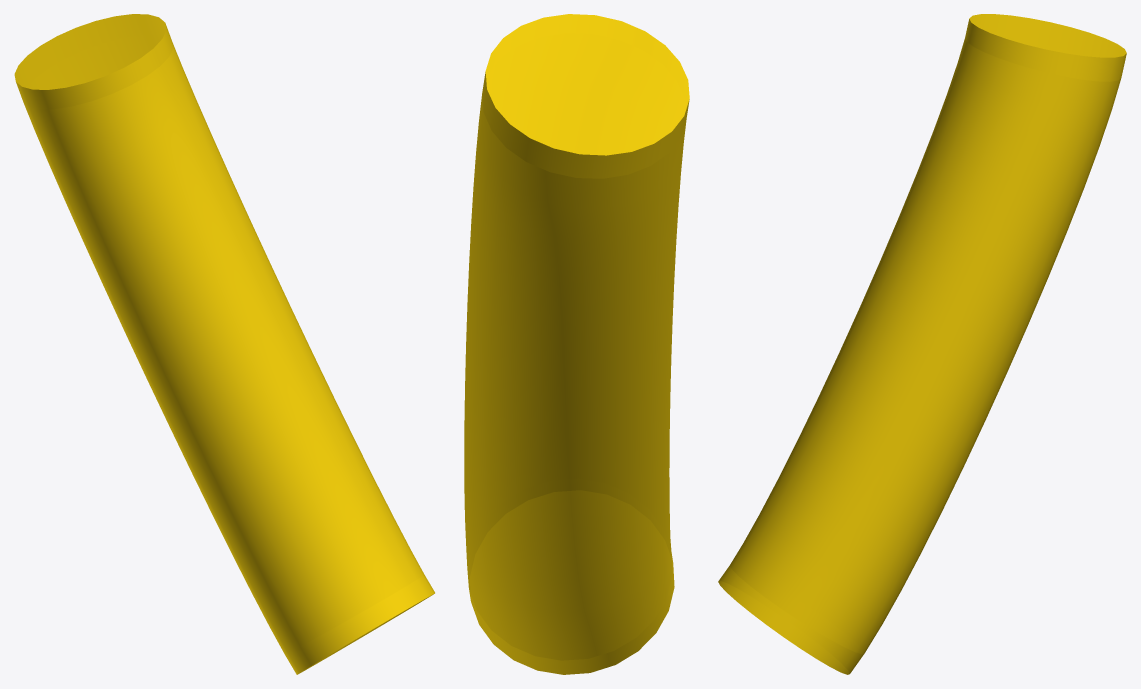
File: Event_421364160_track_62.fbx
3 views of the same model, side by side, from view 1: azimuth 30°, elevation 25°; view 2: azimuth 150°, elevation 25°; view 3: azimuth 270°, elevation 25° (orthographic). The views are drawn at different scales.
Visible parts, largest first — view 1: Model; view 2: Model; view 3: Model.
Boxes of the visible parts, x1=… form: Model: x1=14, y1=14, x2=434, y2=674; Model: x1=464, y1=14, x2=689, y2=674; Model: x1=718, y1=14, x2=1126, y2=674.
Bounding box in the file's own units: 0.0798 × 0.1618 × 0.1013.
